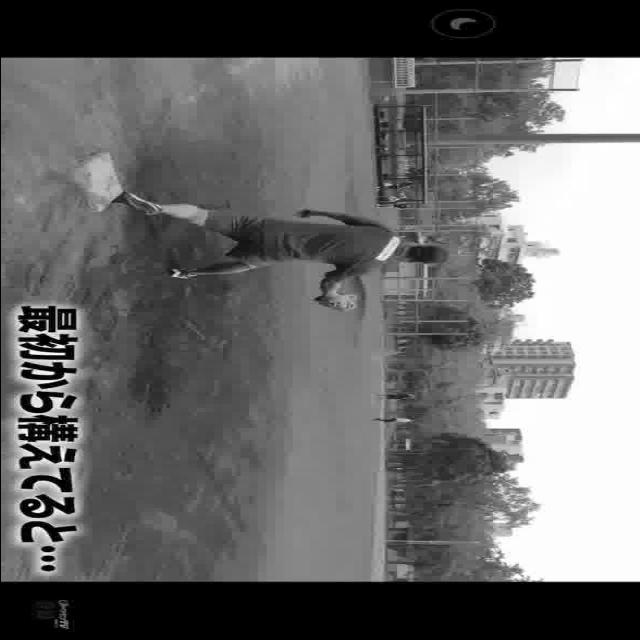base: (68, 152, 126, 214)
baseball_glove: (317, 294, 353, 314)
shoe: (110, 192, 162, 216), (166, 268, 196, 282)
